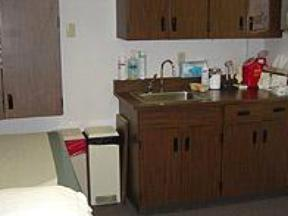Bote de Basura: (84, 128, 124, 209), (61, 128, 89, 194)
Lavamanos: (143, 57, 202, 106)
